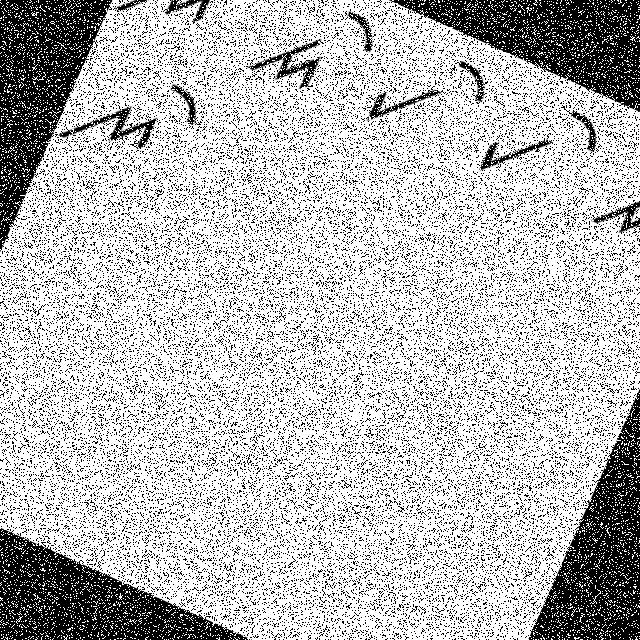day: (243, 0, 388, 121), (585, 128, 639, 271)
nay: (52, 33, 214, 194), (112, 0, 265, 60)
pay: (468, 74, 614, 212), (359, 25, 502, 163)
